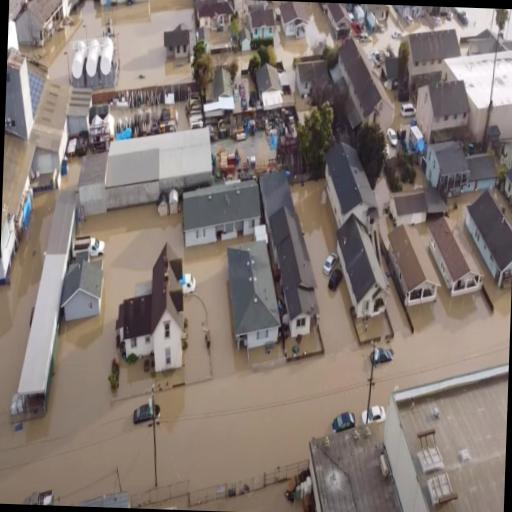flood: (0, 179, 369, 504), (372, 271, 511, 407), (33, 0, 195, 87), (362, 6, 434, 53), (440, 7, 498, 40), (504, 9, 512, 38)
house: (380, 347, 509, 512), (102, 119, 214, 217), (301, 416, 404, 512), (117, 237, 188, 375), (438, 44, 512, 148), (256, 198, 312, 334), (332, 40, 391, 140), (221, 249, 277, 353), (458, 187, 512, 293), (182, 172, 256, 249), (333, 214, 382, 318), (388, 222, 438, 314), (416, 71, 472, 145), (323, 140, 368, 230), (404, 19, 458, 90), (0, 170, 32, 288), (426, 222, 478, 292), (58, 254, 106, 326), (18, 0, 80, 48), (422, 136, 468, 198), (44, 486, 131, 508), (293, 50, 330, 100), (254, 60, 286, 114), (162, 20, 194, 65), (248, 2, 274, 50), (466, 152, 498, 190), (278, 0, 304, 42), (323, 2, 354, 37), (200, 0, 232, 31), (386, 4, 422, 28), (504, 158, 512, 262), (94, 0, 148, 12), (363, 4, 388, 28)
